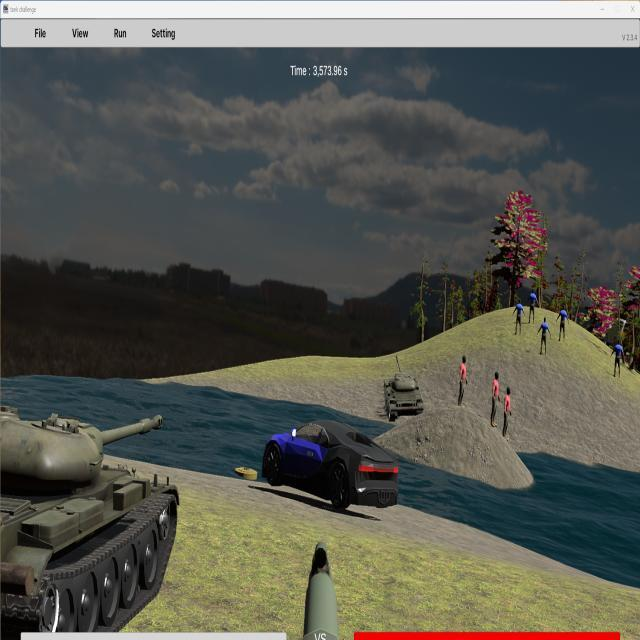Tank: (0, 404, 181, 638), (384, 355, 423, 421)
car: (261, 420, 401, 510)
